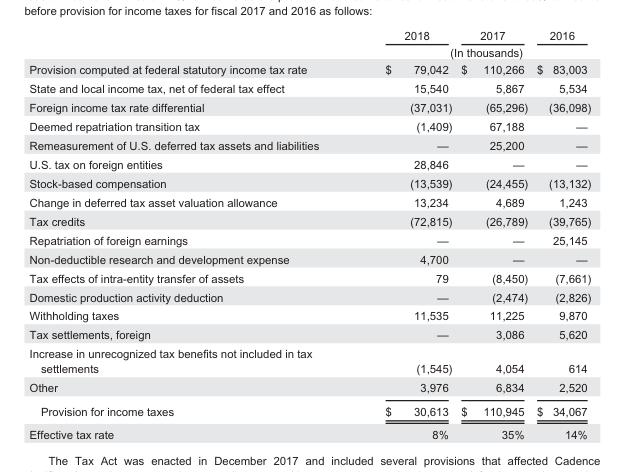table: (28, 28, 590, 440)
table column: (28, 28, 351, 440), (351, 28, 455, 440), (455, 28, 531, 440), (531, 28, 590, 440)
table column header: (28, 28, 590, 60)
table row: (28, 343, 590, 377), (28, 399, 590, 422), (28, 377, 590, 399), (28, 78, 590, 97), (28, 97, 590, 116), (28, 116, 590, 135), (28, 135, 590, 154), (28, 154, 590, 173), (28, 173, 590, 192), (28, 192, 590, 211), (28, 211, 590, 230), (28, 230, 590, 249), (28, 249, 590, 268), (28, 268, 590, 287), (28, 305, 590, 324), (28, 324, 590, 343), (28, 60, 590, 78), (28, 287, 590, 305), (28, 422, 590, 440), (28, 43, 590, 60), (28, 28, 590, 43)
table spanning cell: (351, 43, 590, 60)
